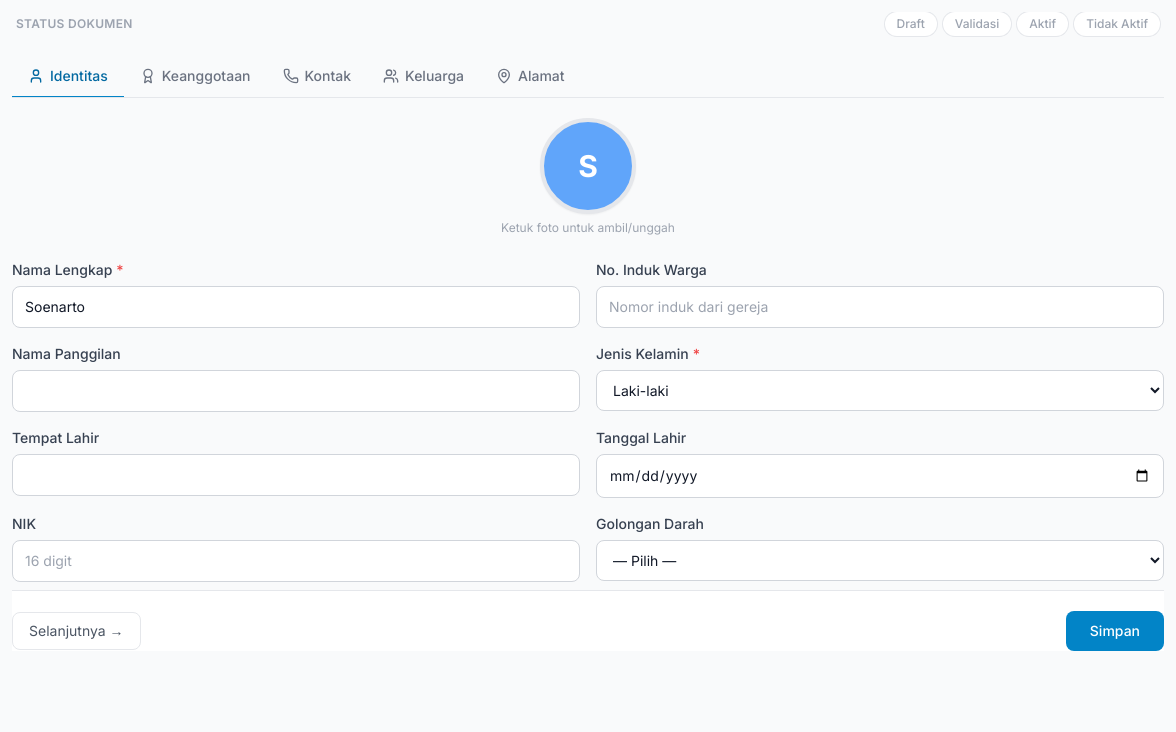
Scenario: WargaForm — alamat KK untuk Kepala Keluarga yang sudah punya KK › tab Keluarga untuk Kepala yang sudah punya KK tidak lagi menyebut "KK baru akan dibuat"
Click the button "Keluarga": (424, 77) x1=367 y1=56 x2=480 y2=98
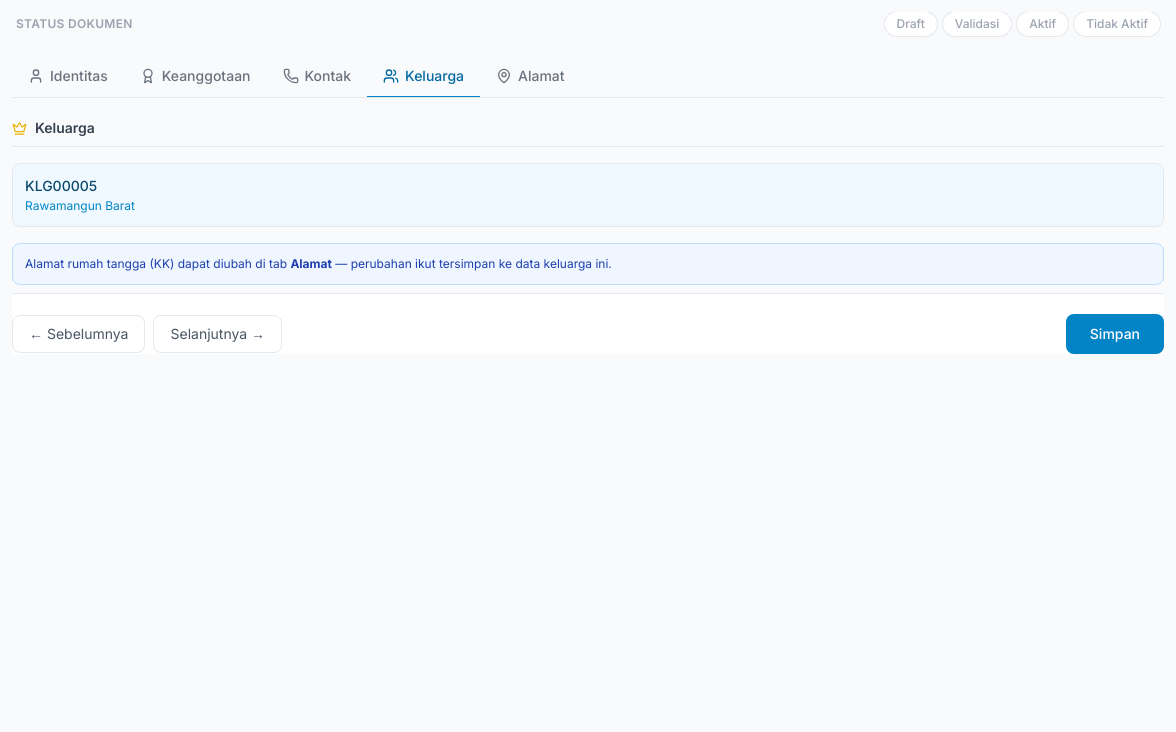
Result: the text "KLG00005" is shown at x1=25 y1=177 x2=97 y2=194
